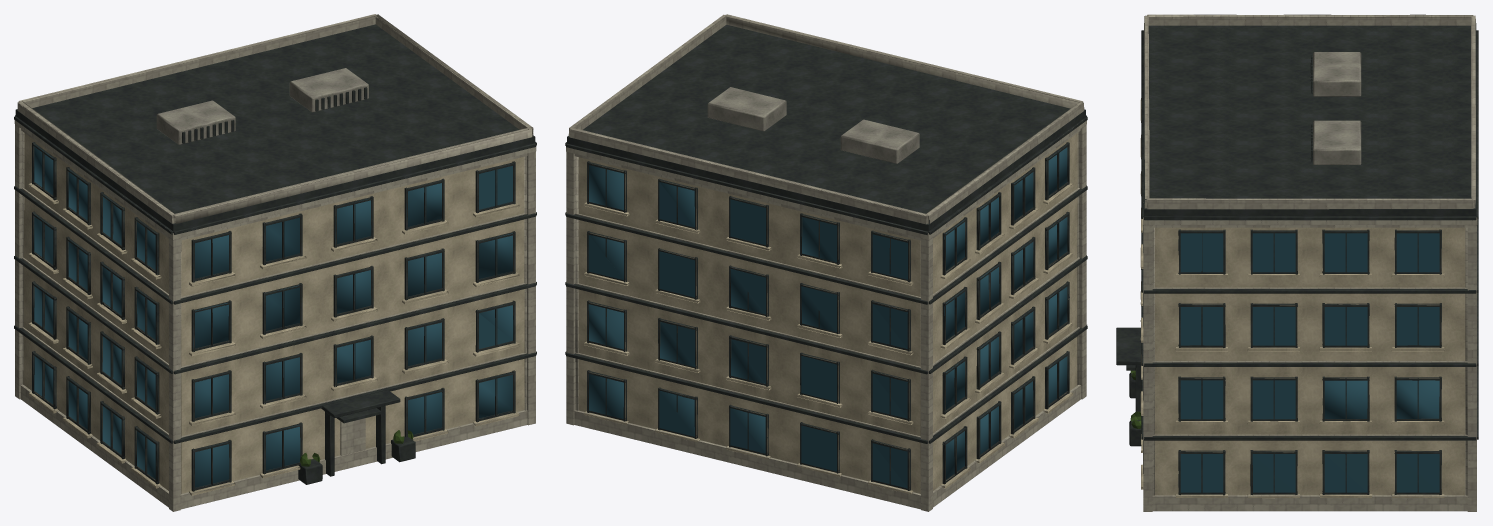
File: office_building.glb
The picture shows the model from 3 angles, left to right: view 1: azimuth 30°, elevation 25°; view 2: azimuth 150°, elevation 25°; view 3: azimuth 270°, elevation 25°; orthographic projection. The views are drawn at different scales.
Visible parts, largest first — view 1: Building_steel.001, Building_ivory.001, Building_glass, trim, Building_bronze.001, Building_limestone.001, Building_concrete.001; view 2: Building_ivory.001, Building_steel.001, Building_glass, trim, Building_bronze.001, Building_limestone.001, Building_concrete.001; view 3: Building_steel.001, Building_ivory.001, Building_glass, trim, Building_limestone.001, Building_bronze.001, Building_concrete.001.
Part boxes in pixels (x1,y1,x2,y2): Building_steel.001: (15,24,535,491); Building_ivory.001: (23,133,524,495); Building_glass: (34,145,513,488); trim: (14,120,536,511); Building_bronze.001: (14,115,536,485); Building_limestone.001: (17,14,533,494); Building_concrete.001: (156,68,368,144); Building_ivory.001: (578,132,1078,494); Building_steel.001: (567,24,1085,490); Building_glass: (588,147,1067,488); trim: (566,120,1086,511); Building_bronze.001: (565,115,1087,484); Building_limestone.001: (568,14,1084,494); Building_concrete.001: (707,87,919,163); Building_steel.001: (1129,23,1476,495); Building_ivory.001: (1140,98,1465,498); Building_glass: (1180,233,1439,492); trim: (1143,217,1477,511); Building_limestone.001: (1143,14,1475,495); Building_bronze.001: (1116,30,1478,493); Building_concrete.001: (1313,52,1361,164).
Bounding box in the file's own units: 16.52 × 13 × 13.42.
Materials: 7 (6 with a texture image).
